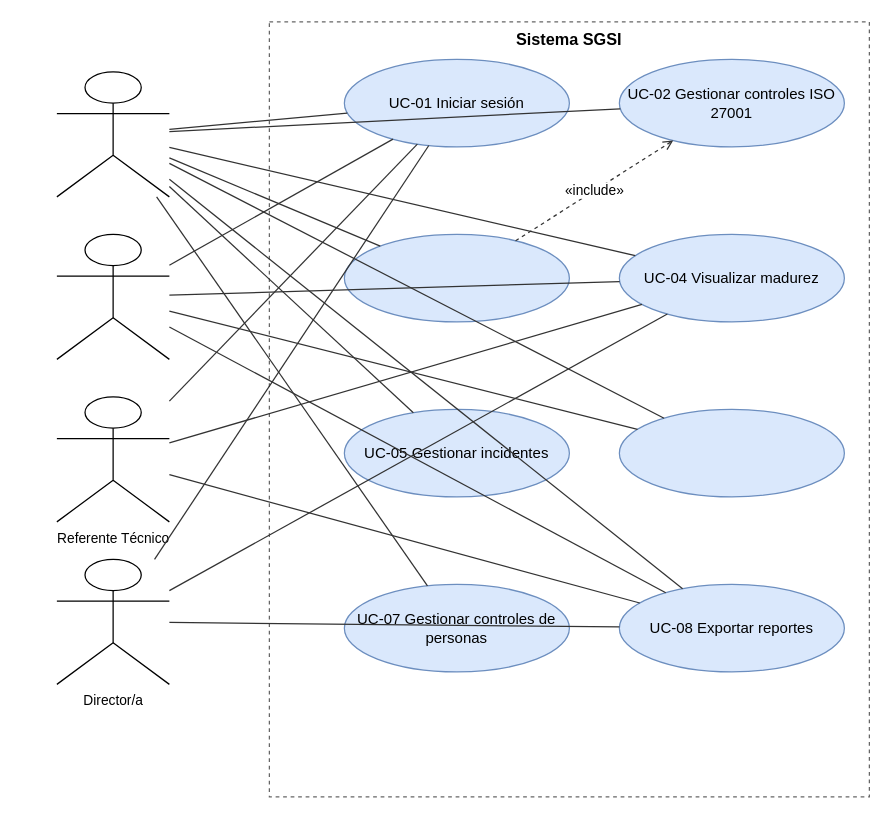
This 891x819 diagram has some shape labels left out. Each missing label, with the centre of its shape:
"Administrador de Contratos" belongs at point (112, 296).
"Encargado de Ciberseguridad" belongs at point (112, 134).
"UC-03 Gestionar evidencias" belongs at point (456, 277).
"UC-06 Gestionar terceros" belongs at point (731, 452).
